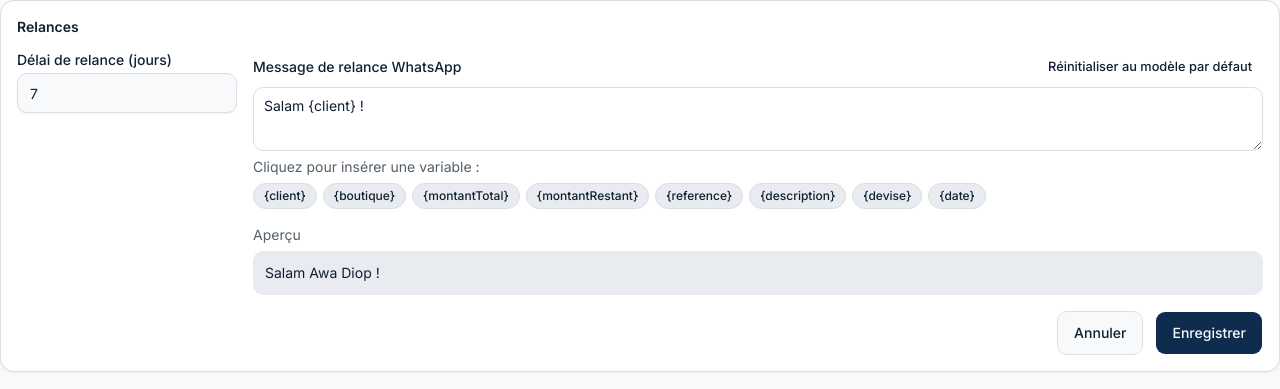
RelanceSettingsForm › un clic sur une variable l'insère dans le champ à la position du curseur
Click the button "{boutique}": {"x": 364, "y": 196} [323,183,406,209]
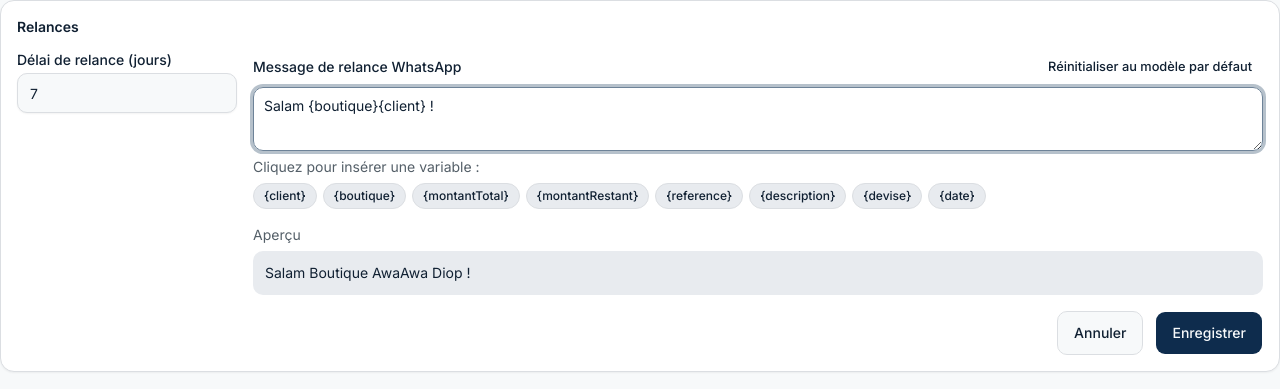
Check: the text box labelled "Message de relance WhatsApp" holds "Salam {boutique}{client} !", box [253,87,1263,151]
